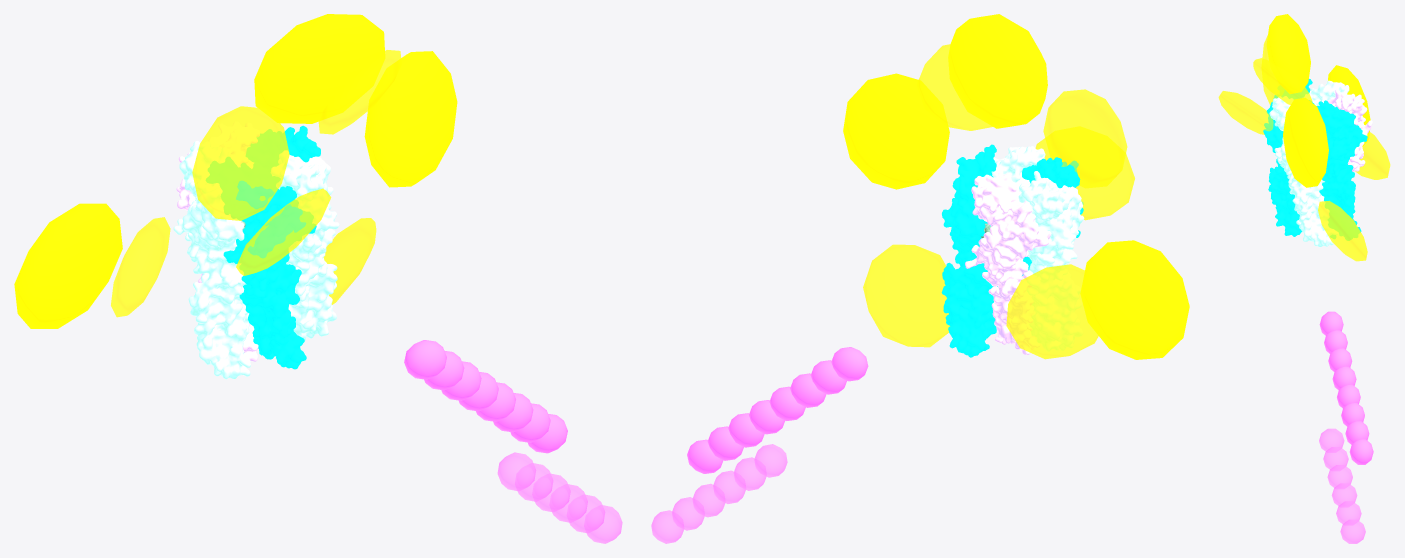
The model's file is heart-micro-progressing-2.glb.
3 renders of one model, left to right at view 1: azimuth 30°, elevation 25°; view 2: azimuth 150°, elevation 25°; view 3: azimuth 270°, elevation 25°, orthographic. The views are drawn at different scales.
Visible parts, largest first — view 1: Object_12, MisfoldedMonomer_2, Object_6, MisfoldedMonomer_0, MisfoldedMonomer_1, MisfoldedExtra_0, Object_8, MisfoldedExtra_2, MisfoldedExtra_4, MisfoldedExtra_3, MisfoldedExtra_1, Object_10 (+15 smaller); view 2: MisfoldedMonomer_1, MisfoldedMonomer_0, MisfoldedMonomer_2, Object_10, Object_6, Object_4, MisfoldedExtra_1, MisfoldedExtra_4, MisfoldedExtra_0, MisfoldedExtra_2, MisfoldedExtra_3, Object_12 (+15 smaller); view 3: Object_4, MisfoldedMonomer_0, Object_8, MisfoldedMonomer_2, Object_12, MisfoldedExtra_1, MisfoldedExtra_3, MisfoldedExtra_2, Object_10, MisfoldedExtra_4, MisfoldedMonomer_1, Object_6 (+15 smaller).
Part boxes in pixels (box(x1,y1,x2,y2)): Object_12: box(206, 157, 316, 369); MisfoldedMonomer_2: box(254, 14, 385, 123); Object_6: box(173, 140, 250, 379); MisfoldedMonomer_0: box(364, 51, 457, 187); MisfoldedMonomer_1: box(14, 203, 122, 328); MisfoldedExtra_0: box(192, 106, 289, 220); Object_8: box(271, 150, 339, 340); MisfoldedExtra_2: box(236, 188, 331, 275); MisfoldedExtra_4: box(111, 217, 170, 317); MisfoldedExtra_3: box(318, 50, 401, 134); MisfoldedExtra_1: box(323, 218, 376, 304); Object_10: box(176, 121, 259, 361); MisfoldedMonomer_1: box(1080, 240, 1189, 359); MisfoldedMonomer_0: box(843, 73, 949, 189); MisfoldedMonomer_2: box(948, 14, 1047, 128); Object_10: box(965, 173, 1051, 354); Object_6: box(1018, 171, 1084, 351); Object_4: box(941, 144, 997, 357); MisfoldedExtra_1: box(863, 244, 949, 347); MisfoldedExtra_4: box(1006, 264, 1098, 359); MisfoldedExtra_0: box(1043, 89, 1127, 188); MisfoldedExtra_2: box(1035, 127, 1134, 220); MisfoldedExtra_3: box(916, 44, 992, 130); Object_12: box(1022, 157, 1083, 275); Object_4: box(1309, 100, 1367, 240); MisfoldedMonomer_0: box(1283, 97, 1328, 187); Object_8: box(1269, 96, 1337, 247); MisfoldedMonomer_2: box(1266, 14, 1310, 93); Object_12: box(1263, 79, 1312, 236); MisfoldedExtra_1: box(1318, 200, 1367, 261); MisfoldedExtra_3: box(1253, 58, 1312, 104); MisfoldedExtra_2: box(1218, 91, 1273, 134); Object_10: box(1327, 89, 1372, 171); MisfoldedExtra_4: box(1355, 131, 1390, 179); MisfoldedMonomer_1: box(1328, 65, 1370, 145); Object_6: box(1304, 80, 1349, 105).
Bounding box in the file's own units: 5.34 × 5.43 × 2.01.
